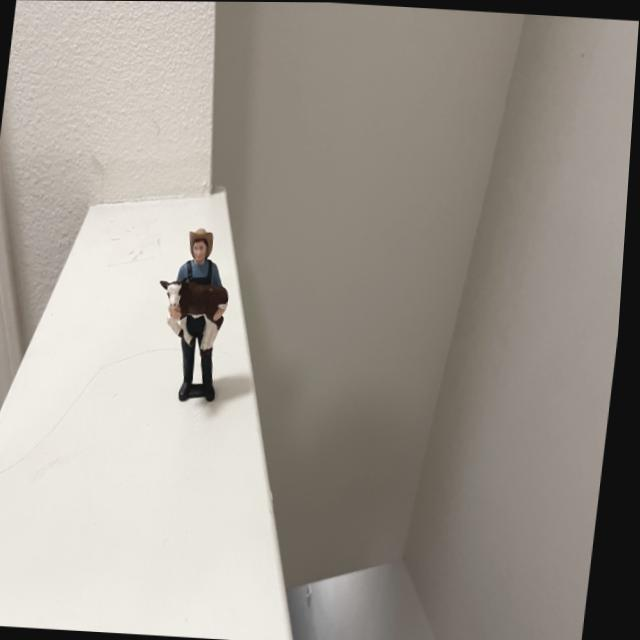cow: (167, 278, 234, 323)
person: (181, 234, 235, 289)
